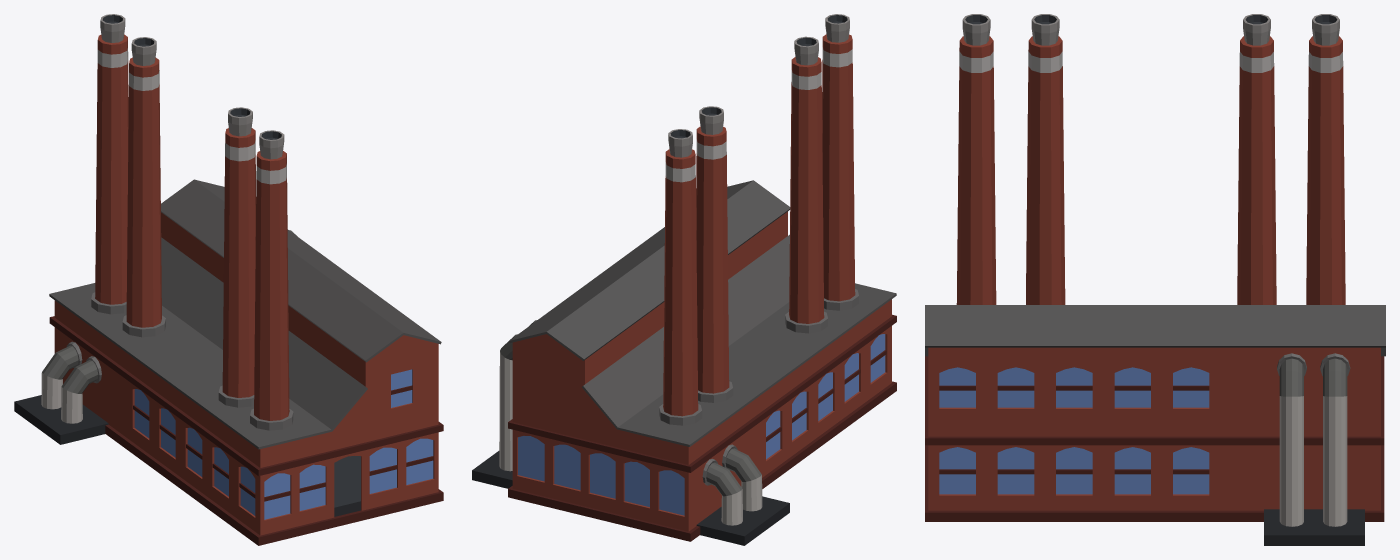
File: Industrial Building_5.fbx
3 views of the same model, side by side, from view 1: azimuth 30°, elevation 25°; view 2: azimuth 150°, elevation 25°; view 3: azimuth 270°, elevation 25° (orthographic). The views are drawn at different scales.
Parts seen in each view (by area): view 1: Industrial Building_5; view 2: Industrial Building_5; view 3: Industrial Building_5.
Part boxes in pixels (<box>): Industrial Building_5: <box>14,14,443,545</box>; Industrial Building_5: <box>472,14,896,545</box>; Industrial Building_5: <box>925,14,1385,545</box>.
Bounding box in the file's own units: 1479 × 1977 × 1953.
